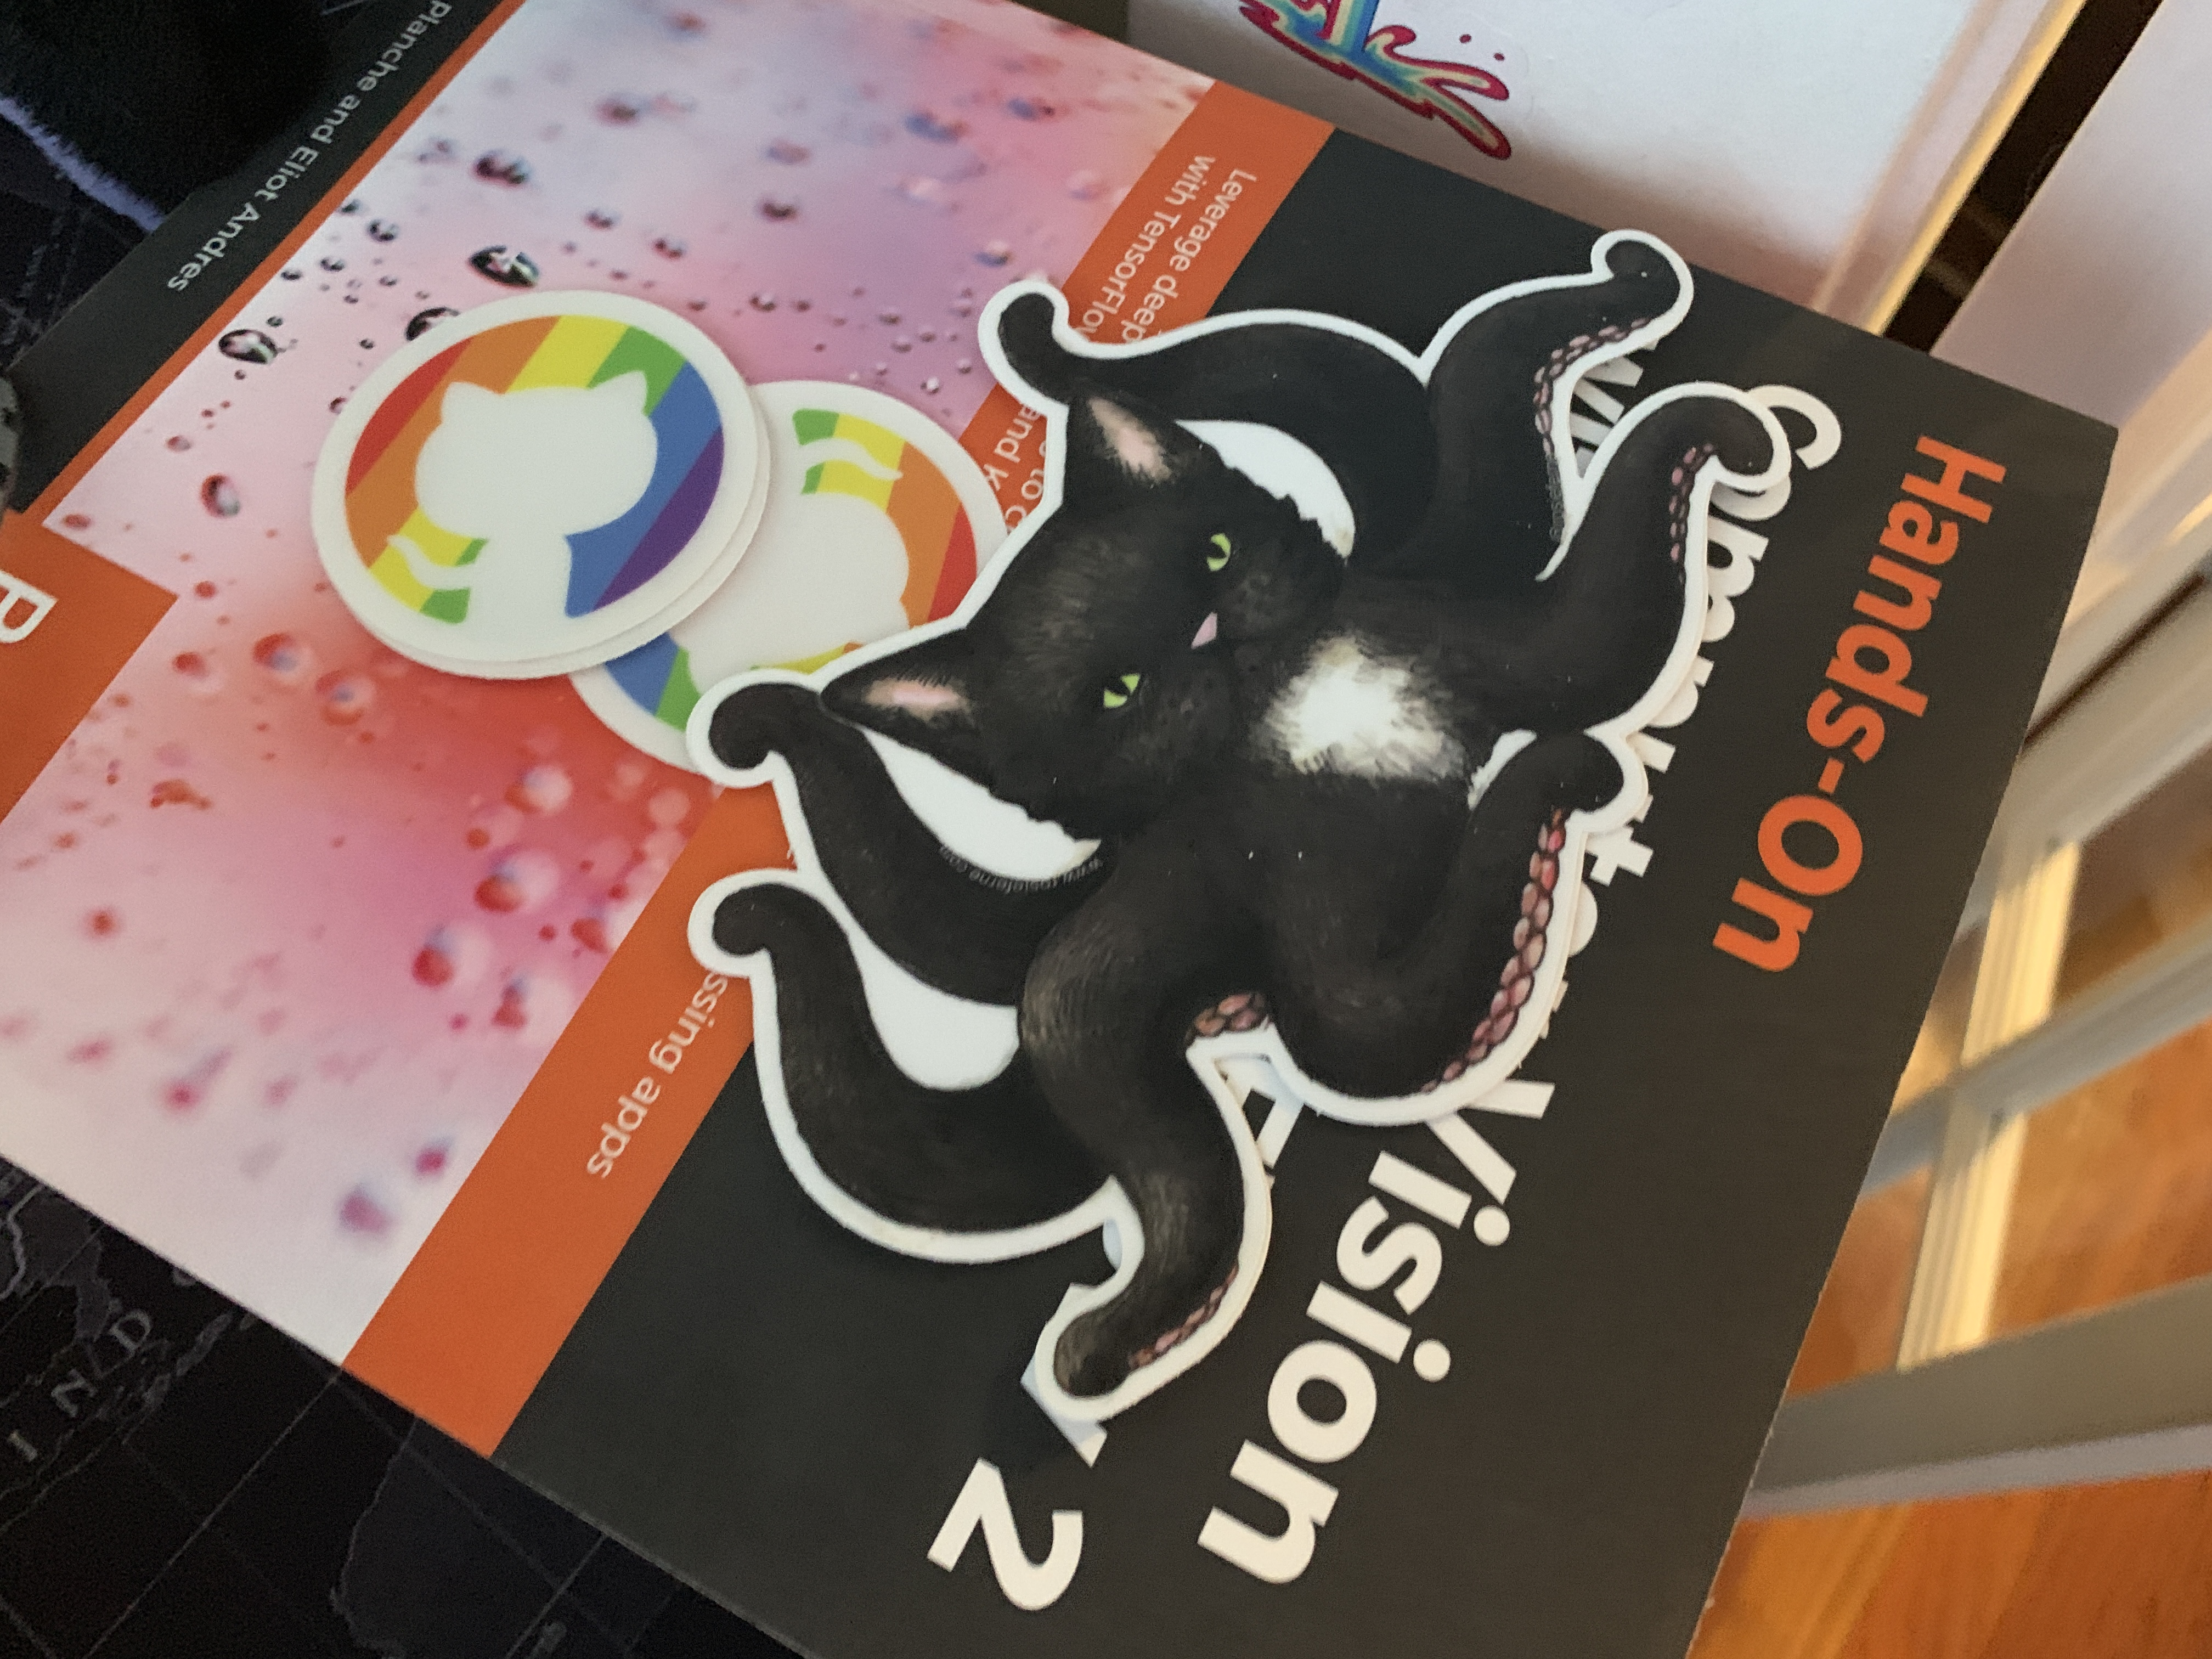Octocat-OffBrand: (712, 202, 1799, 1554)
Pride: (319, 303, 745, 633), (594, 387, 991, 727)
